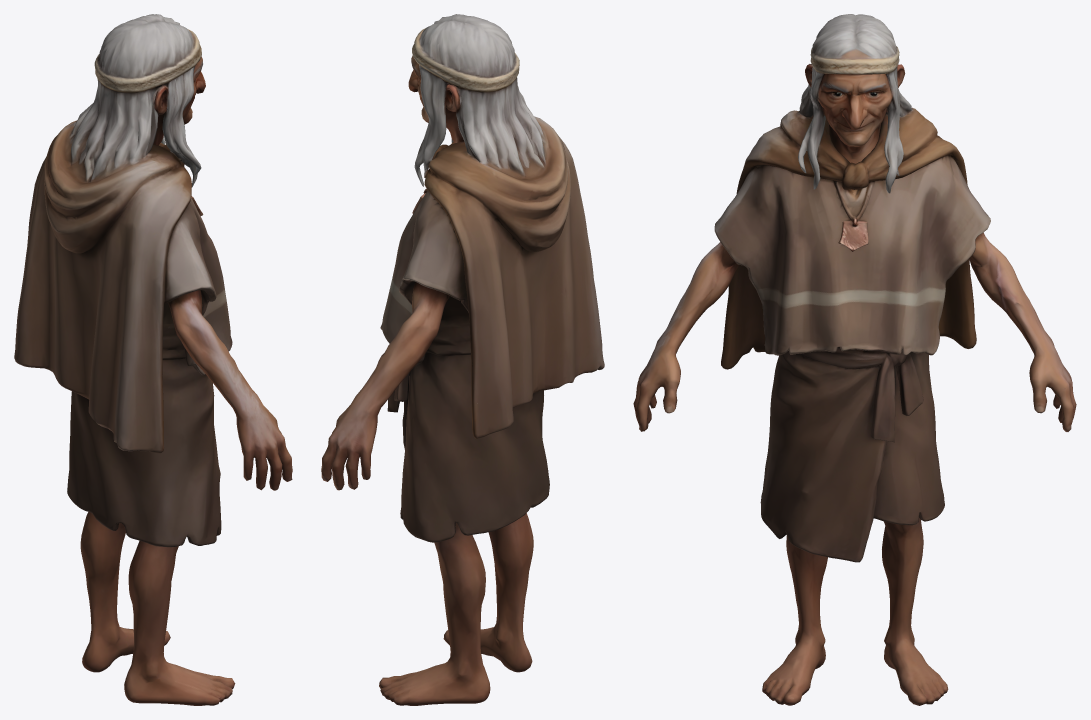
The model's file is namku-modelo-sin-esqueleto.glb.
The picture shows the model from 3 angles, left to right: view 1: azimuth 30°, elevation 25°; view 2: azimuth 150°, elevation 25°; view 3: azimuth 270°, elevation 25°; orthographic projection.
Visible parts, largest first — view 1: tripo_node_4f1eb6a3-7477-4d07-8655-25e8db0b1b93; view 2: tripo_node_4f1eb6a3-7477-4d07-8655-25e8db0b1b93; view 3: tripo_node_4f1eb6a3-7477-4d07-8655-25e8db0b1b93.
Boxes of the visible parts, x1,y1,x2,y2 form: tripo_node_4f1eb6a3-7477-4d07-8655-25e8db0b1b93: (14, 14, 292, 705); tripo_node_4f1eb6a3-7477-4d07-8655-25e8db0b1b93: (321, 14, 604, 705); tripo_node_4f1eb6a3-7477-4d07-8655-25e8db0b1b93: (633, 14, 1076, 705).
Size of the model in its own units: 0.2487 by 1 by 0.6051.
1 material, 1 textured.
